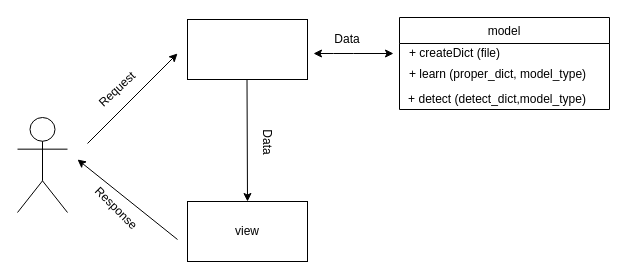
Image size: 627x279. Some labels were removed from this diagram. The centre of each missing label's shape, as x and y in pixels:
server: pixel 247 49
User: pixel 42 164
